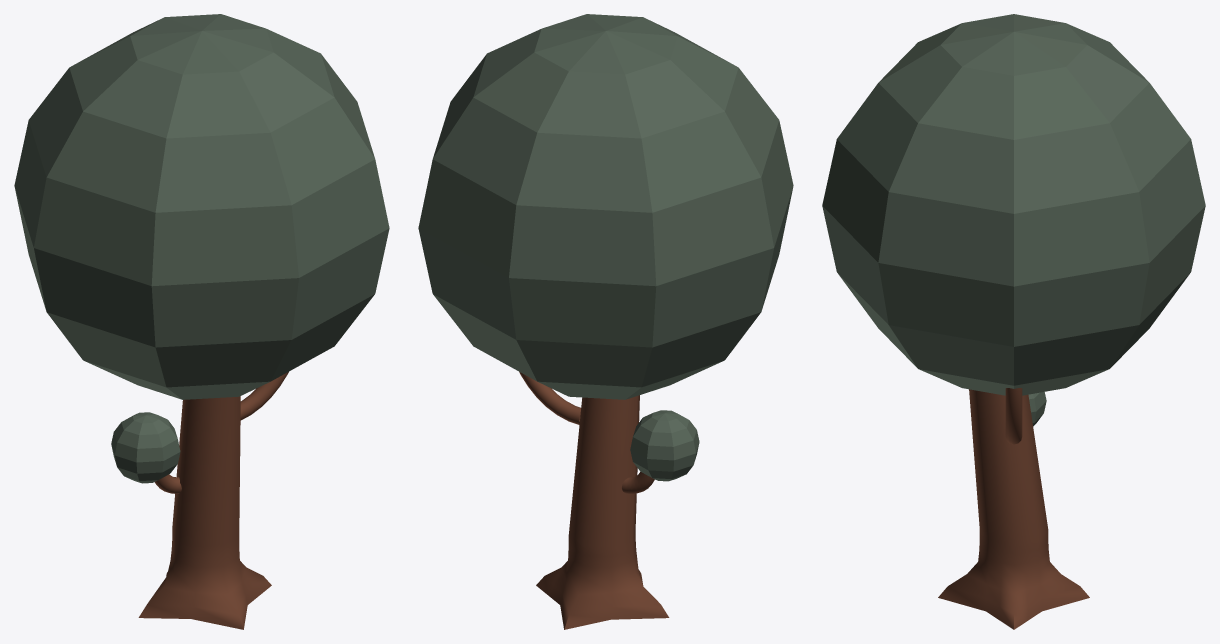
File: simple_tree.fbx
The picture shows the model from 3 angles, left to right: view 1: azimuth 30°, elevation 25°; view 2: azimuth 150°, elevation 25°; view 3: azimuth 270°, elevation 25°; orthographic projection.
Visible parts, largest first — view 1: Cylinder.001, Cylinder, Sphere, BezierCurve; view 2: Cylinder.001, Cylinder, Sphere, BezierCurve; view 3: Cylinder.001, Cylinder, BezierCurve.
Boxes of the visible parts, box(x1,y1,x2,y2) form: Cylinder.001: box(14, 14, 389, 399); Cylinder: box(138, 396, 271, 629); Sphere: box(111, 412, 180, 483); BezierCurve: box(154, 372, 288, 493); Cylinder.001: box(418, 14, 793, 399); Cylinder: box(536, 395, 669, 629); Sphere: box(630, 410, 699, 481); BezierCurve: box(519, 372, 654, 493); Cylinder.001: box(822, 14, 1205, 395); Cylinder: box(938, 389, 1089, 629); BezierCurve: box(1005, 388, 1022, 444).
Bounding box in the file's own units: 683 × 1109 × 683.
